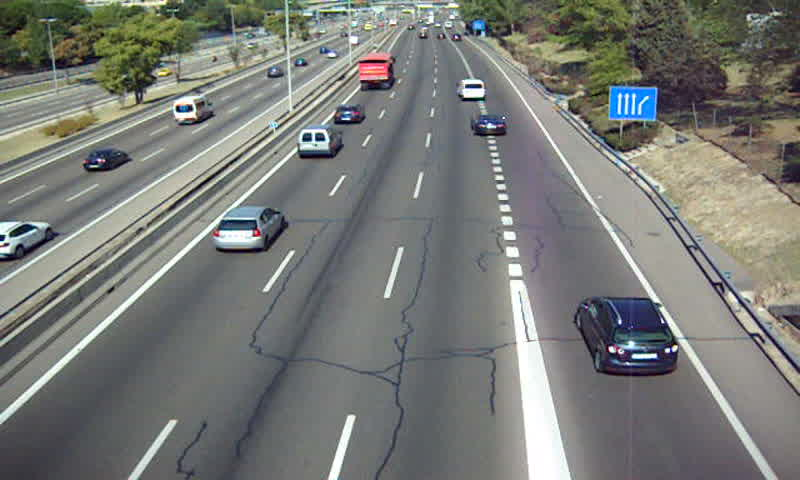car: (575, 296, 678, 373), (211, 206, 285, 252), (472, 114, 508, 137), (332, 104, 365, 124)
truck: (357, 52, 397, 88)
van: (295, 125, 340, 159), (457, 79, 487, 101)
